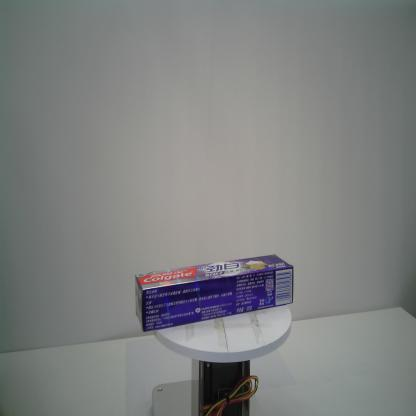Personal Hygiene: (136, 252, 293, 333)
